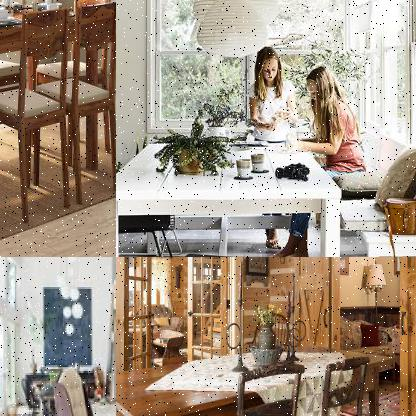table: (116, 133, 344, 256), (0, 0, 100, 223), (116, 343, 401, 415)
